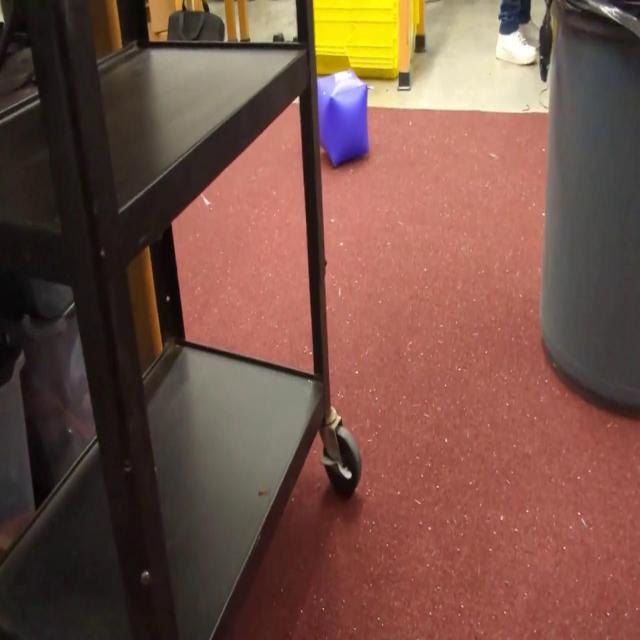frc_cube: (316, 67, 368, 169)
